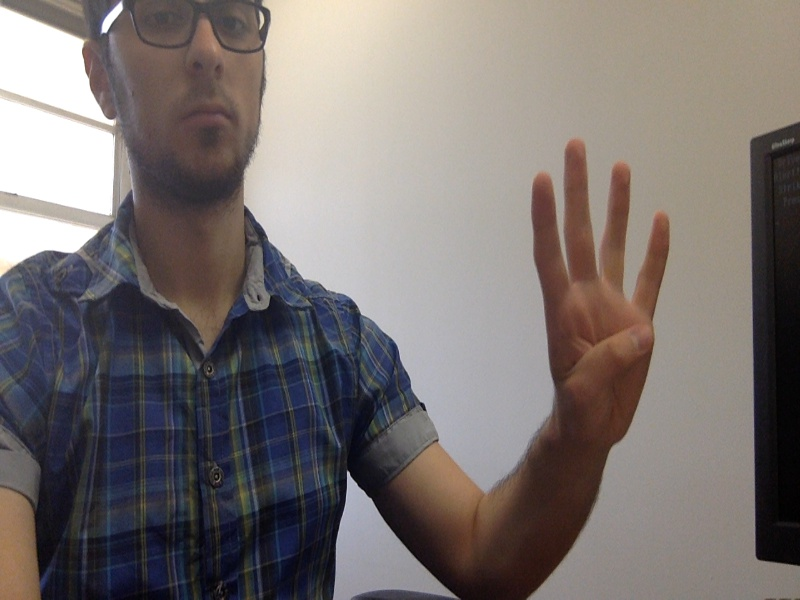4-hand: (530, 137, 673, 446)
